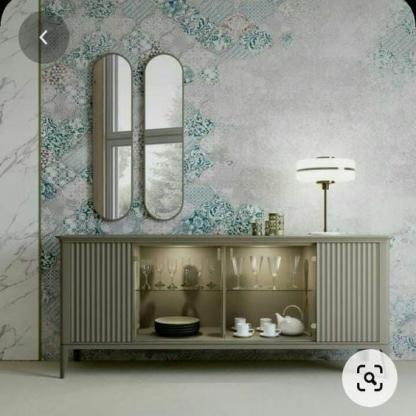Cupboard: (58, 236, 392, 380)
